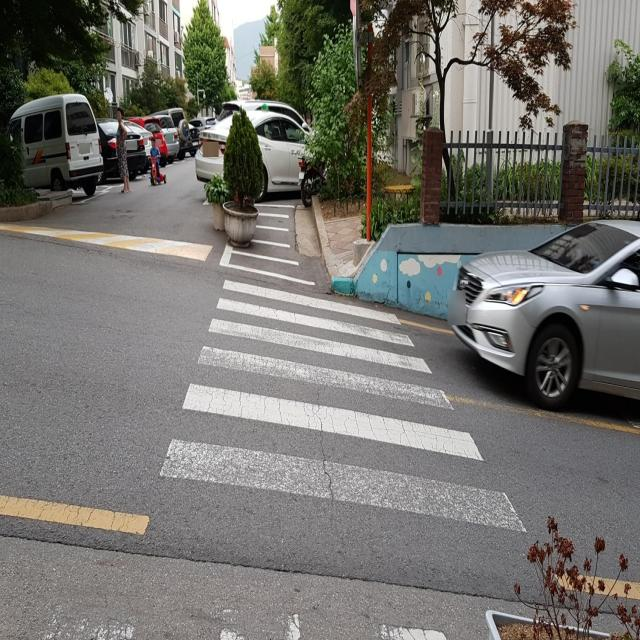횡단보도: (156, 273, 529, 540)
